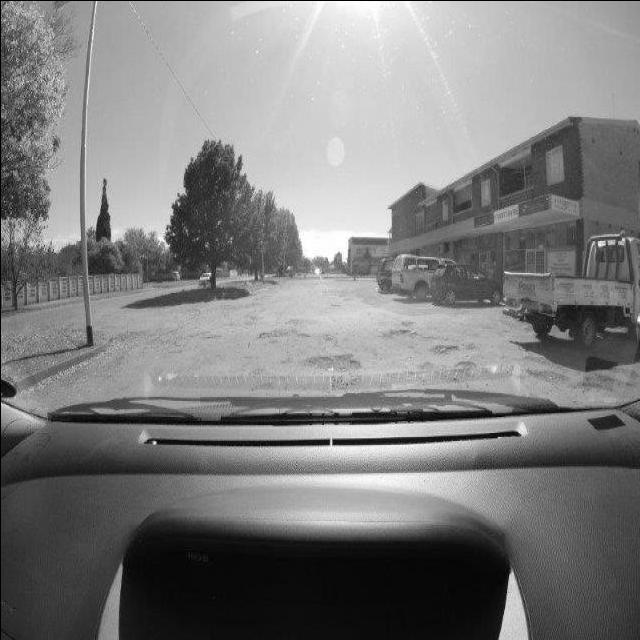lubang: (308, 349, 362, 375), (418, 341, 458, 358), (454, 362, 479, 384), (253, 327, 305, 337), (386, 326, 420, 334)
